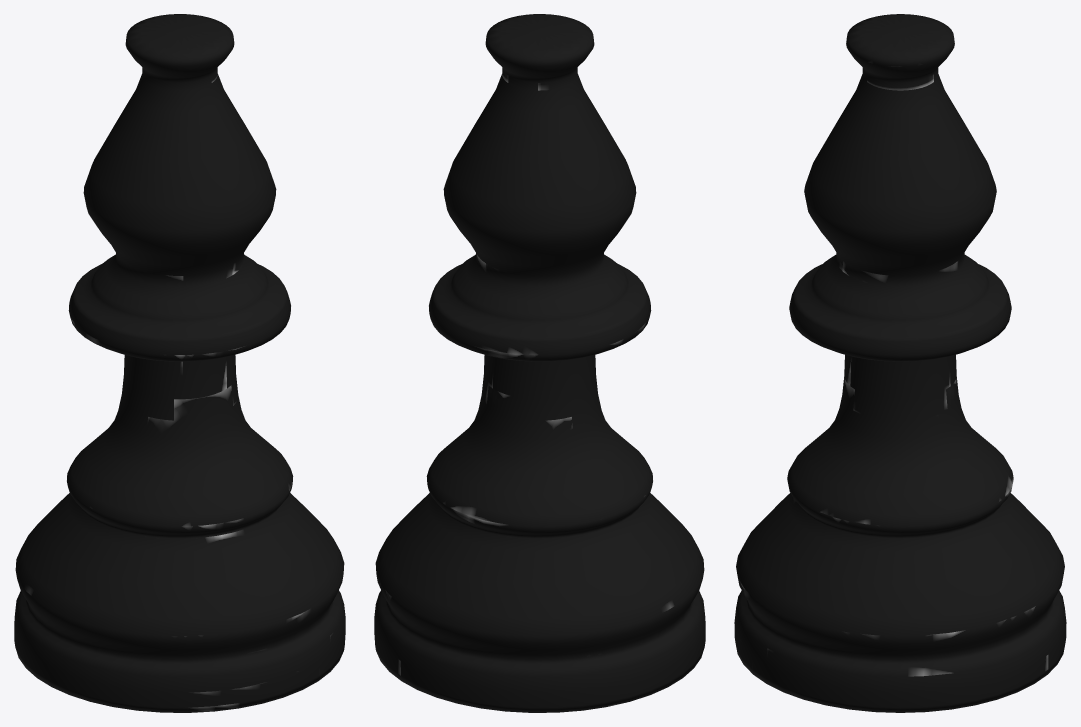
The model's file is Bishop_Black.fbx.
The picture shows the model from 3 angles, left to right: view 1: azimuth 30°, elevation 25°; view 2: azimuth 150°, elevation 25°; view 3: azimuth 270°, elevation 25°; orthographic projection.
Visible parts, largest first — view 1: pCylinder15.001; view 2: pCylinder15.001; view 3: pCylinder15.001.
Boxes of the visible parts, left/top/right/bottom form: pCylinder15.001: left=14, top=14, right=345, bottom=712; pCylinder15.001: left=374, top=14, right=705, bottom=712; pCylinder15.001: left=734, top=14, right=1066, bottom=712.
Size of the model in its own units: 1.99 by 4.05 by 1.99.
